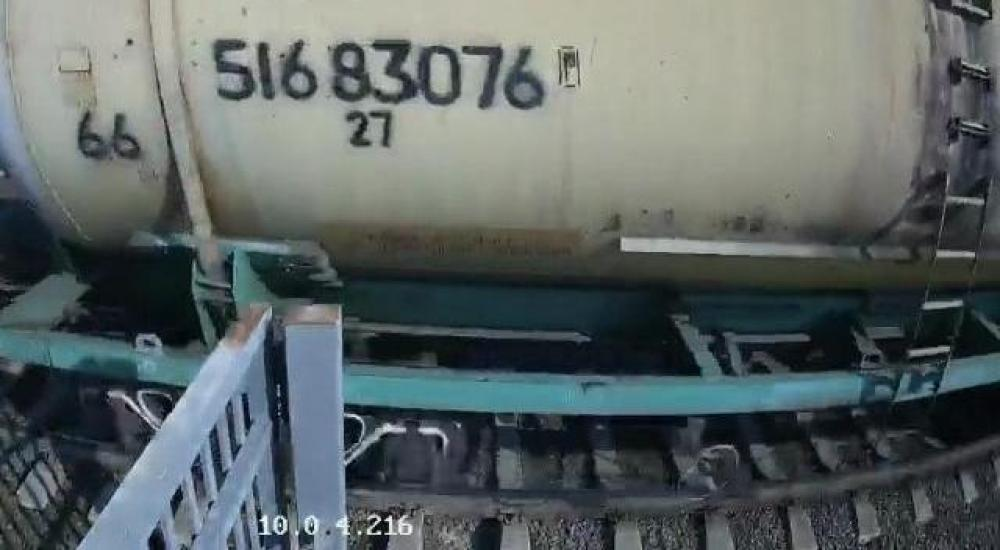Wagon-number: (210, 32, 550, 119)
